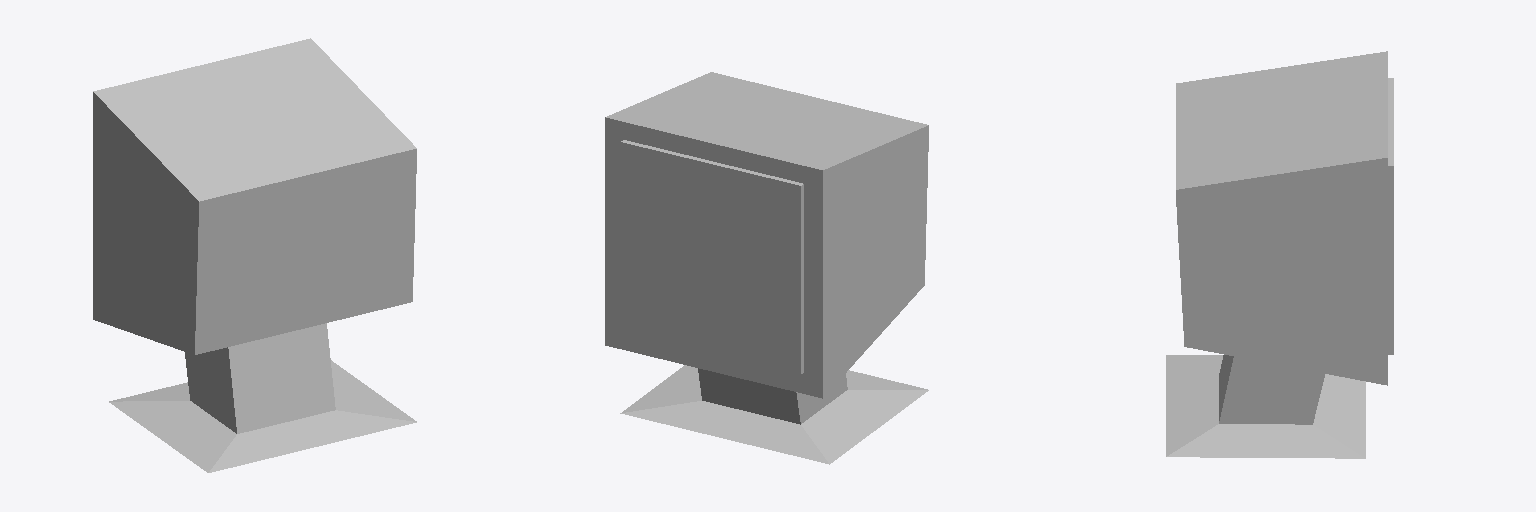
Rendered from monitor.obj.
3 renders of one model, left to right at view 1: azimuth 30°, elevation 25°; view 2: azimuth 150°, elevation 25°; view 3: azimuth 270°, elevation 25°, orthographic.
Visible parts, largest first — view 1: Cube; view 2: Cube; view 3: Cube.
Part boxes in pixels (x1,y1,x2,y2): Cube: (93, 38, 416, 472); Cube: (605, 72, 928, 464); Cube: (1166, 51, 1393, 458).
Bounding box in the file's own units: 2 × 2.66 × 1.81.